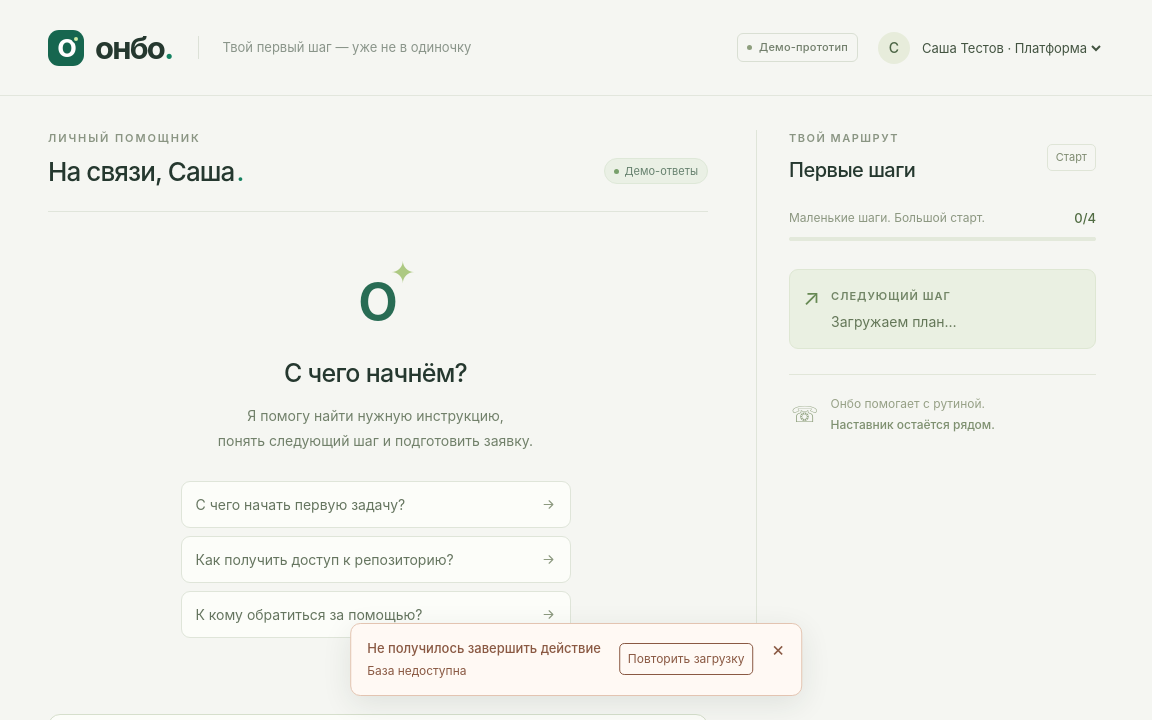
Test case: Onbo workspace › reports workspace load failures and recovers with the reload action
This screenshot has width=1152, height=720.
Expected: the heading "На связи, Саша." is shown, [48, 154, 243, 188]
Expected: the message shows "База недоступна", [367, 663, 466, 678]
Click the button "Повторить загрузку".
click(686, 659)  # box [619, 643, 754, 675]
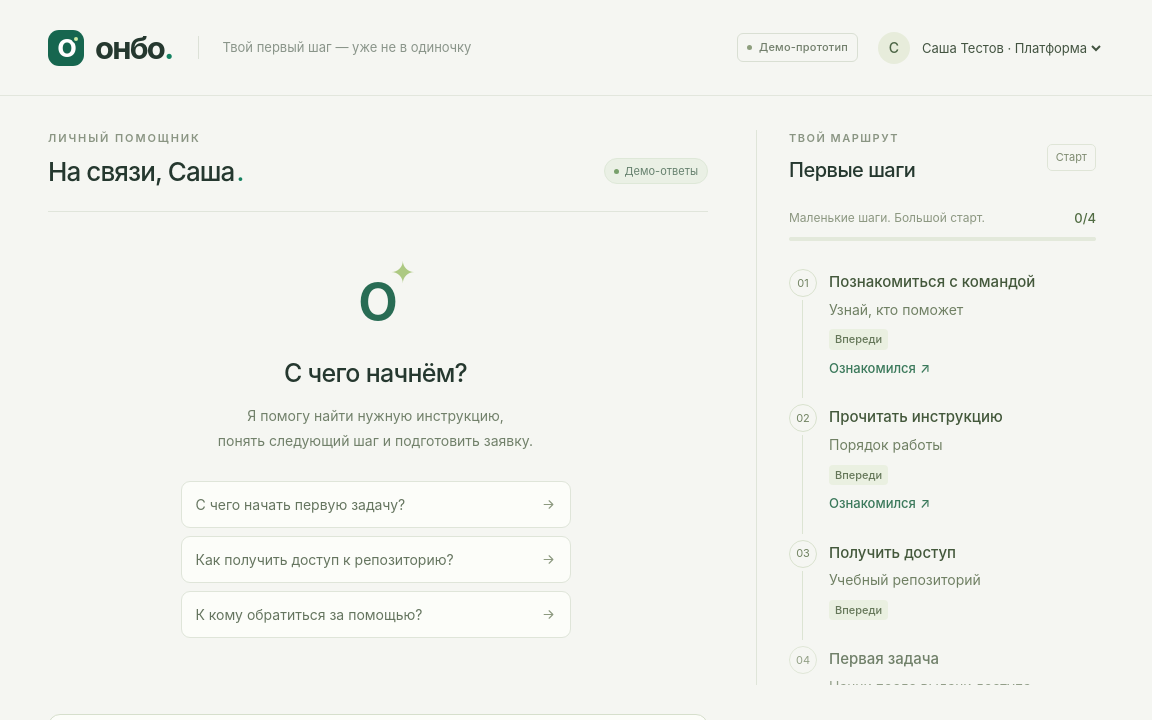
Now the message "Не получилось завершить действие База недоступна Повторить загрузку ×" is gone
Now the heading "Познакомиться с командой" is shown, box [829, 271, 1035, 294]
